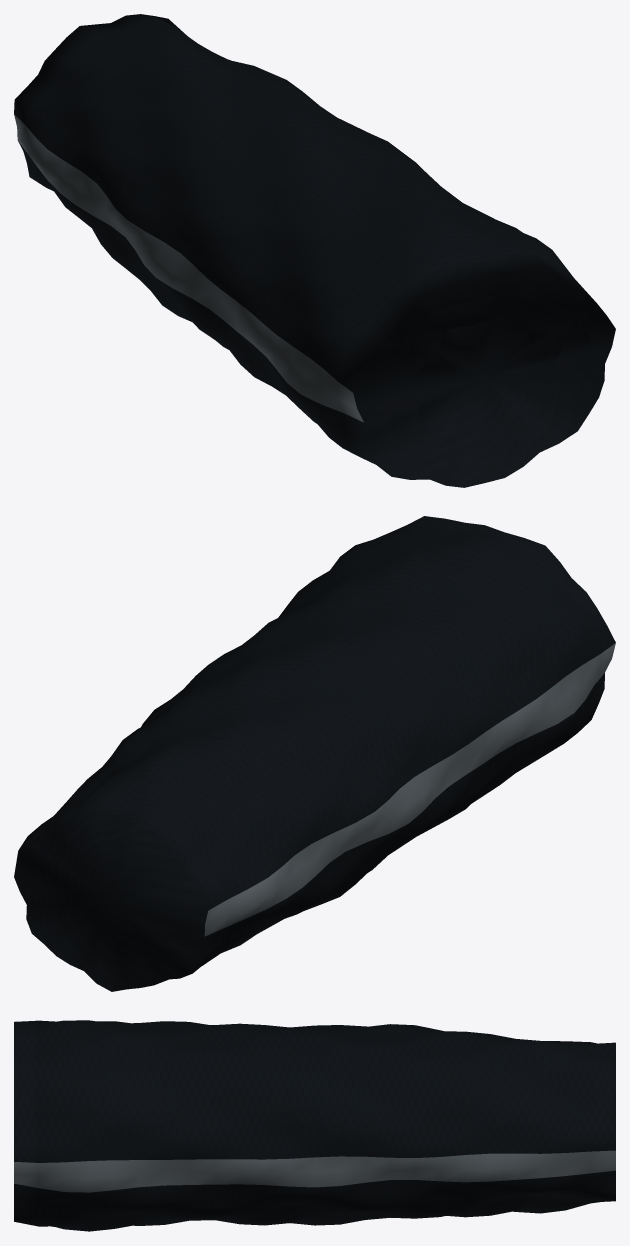
The model's file is authored-sleeve.glb.
3 renders of one model, top to bottom at view 1: azimuth 30°, elevation 25°; view 2: azimuth 150°, elevation 25°; view 3: azimuth 270°, elevation 25°, orthographic. The views are drawn at different scales.
Visible parts, largest first — view 1: authored-sleeve-upper, authored-sleeve-fore, authored-sleeve-cuff; view 2: authored-sleeve-upper; view 3: authored-sleeve-upper.
Part boxes in pixels (bbox=[...]): authored-sleeve-upper: bbox=[14, 14, 615, 487]; authored-sleeve-fore: bbox=[380, 288, 591, 466]; authored-sleeve-cuff: bbox=[410, 314, 561, 440]; authored-sleeve-upper: bbox=[14, 516, 615, 991]; authored-sleeve-upper: bbox=[14, 1020, 615, 1231].
Bounding box in the file's own units: 0.1273 × 0.1003 × 0.3.
3 materials, 1 textured.
